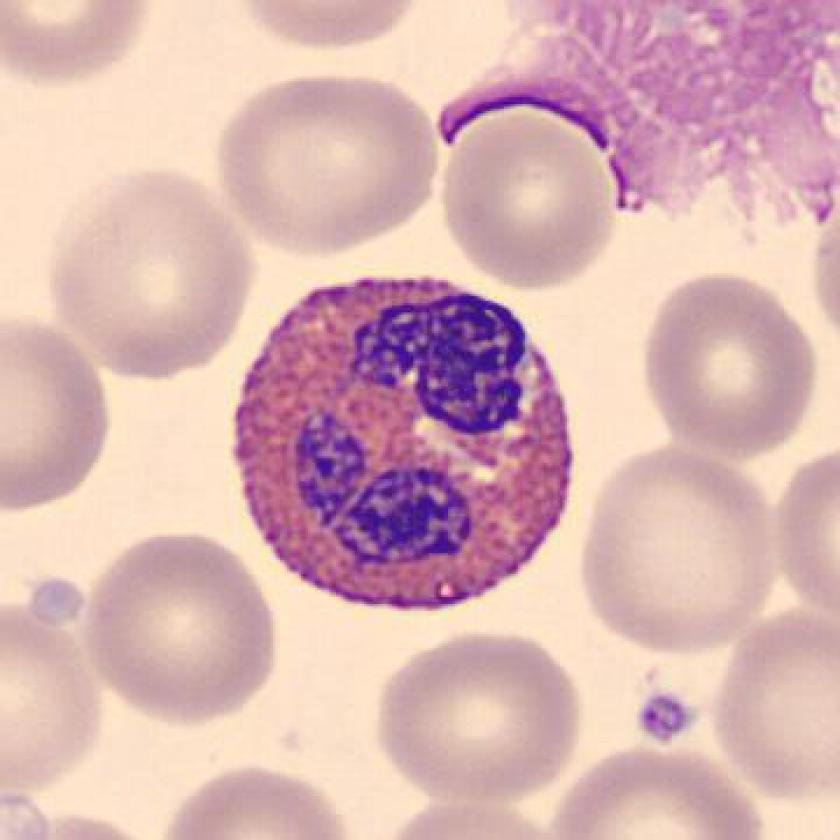eosinophil: (218, 253, 584, 635)
